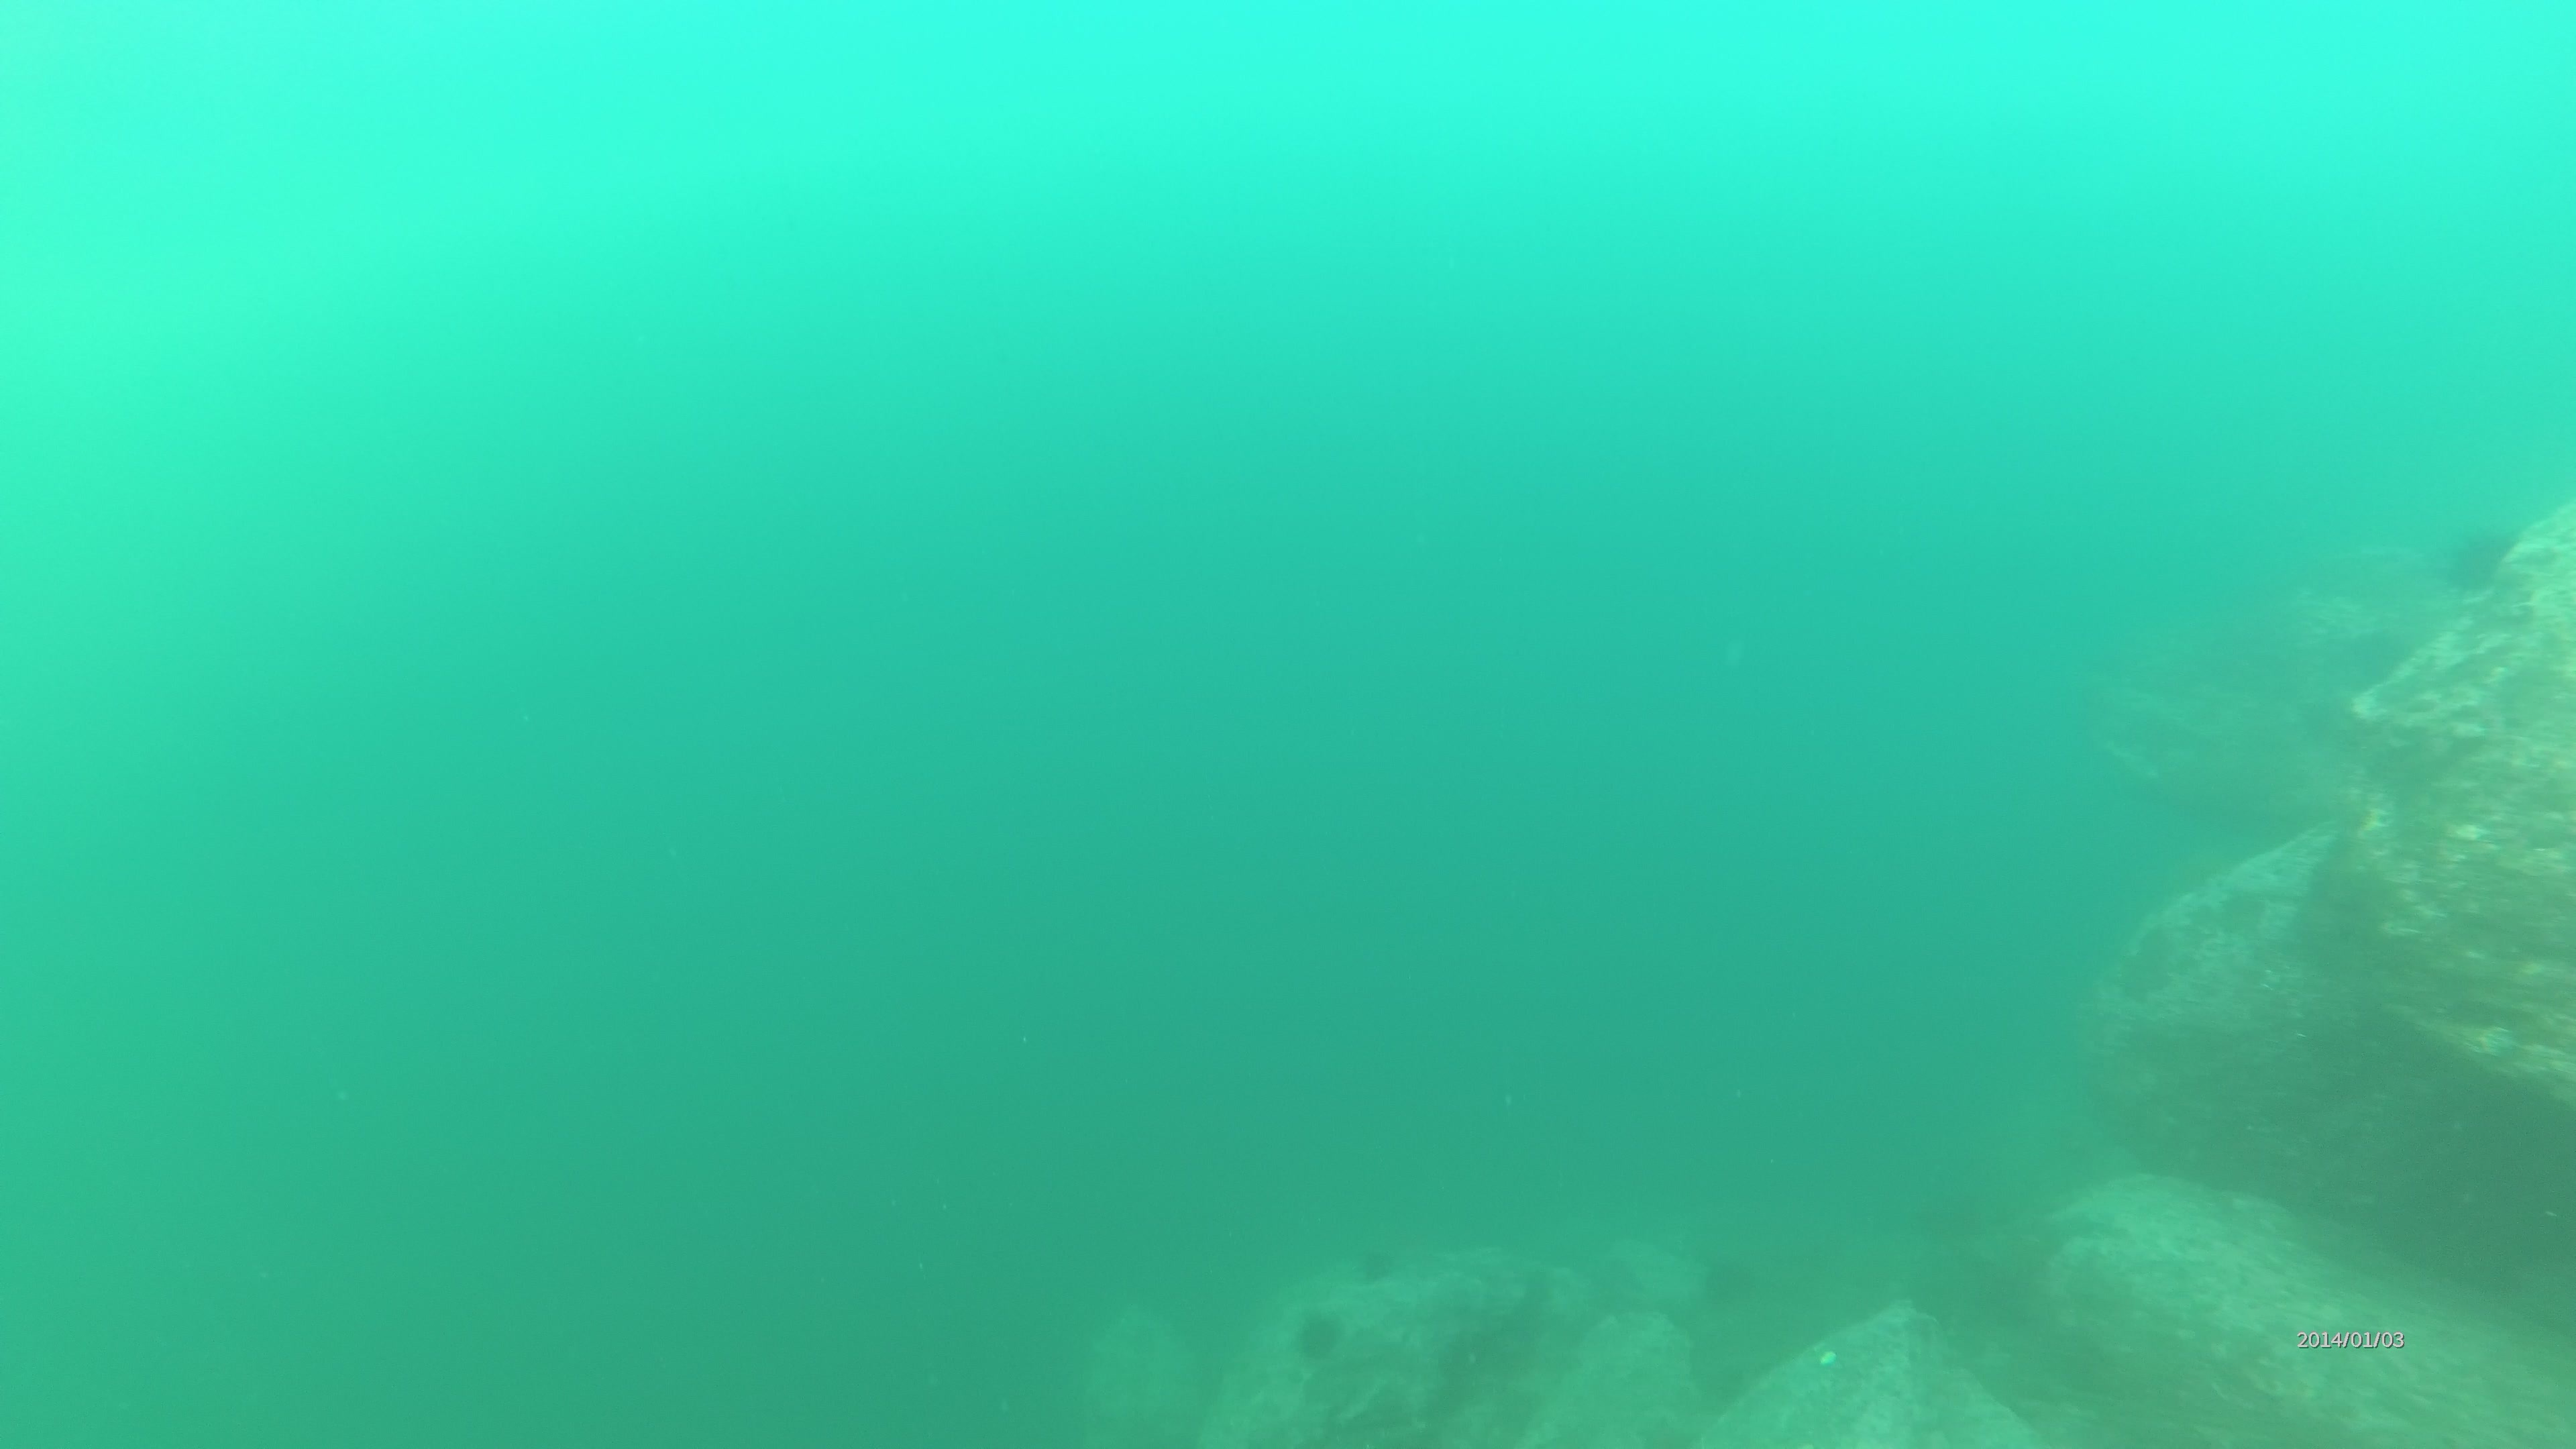echinus: (2426, 520, 2521, 593), (1295, 1307, 1343, 1361), (1711, 1249, 1759, 1300), (1352, 1246, 1399, 1283)
